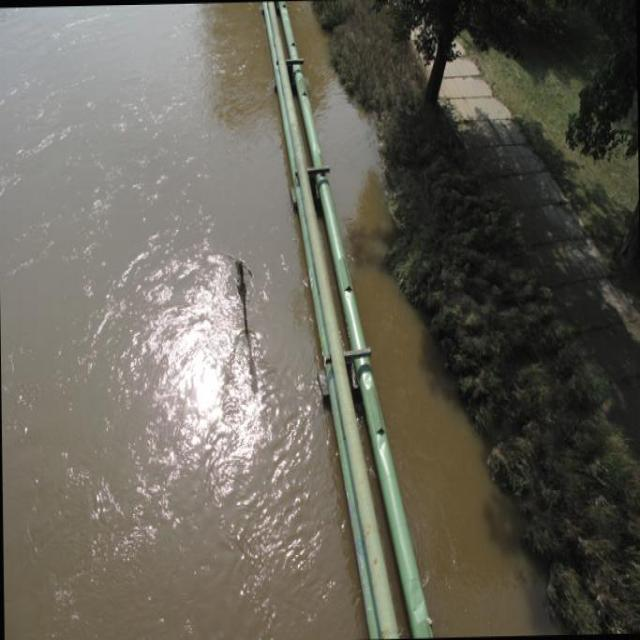flood: (0, 1, 493, 639)
